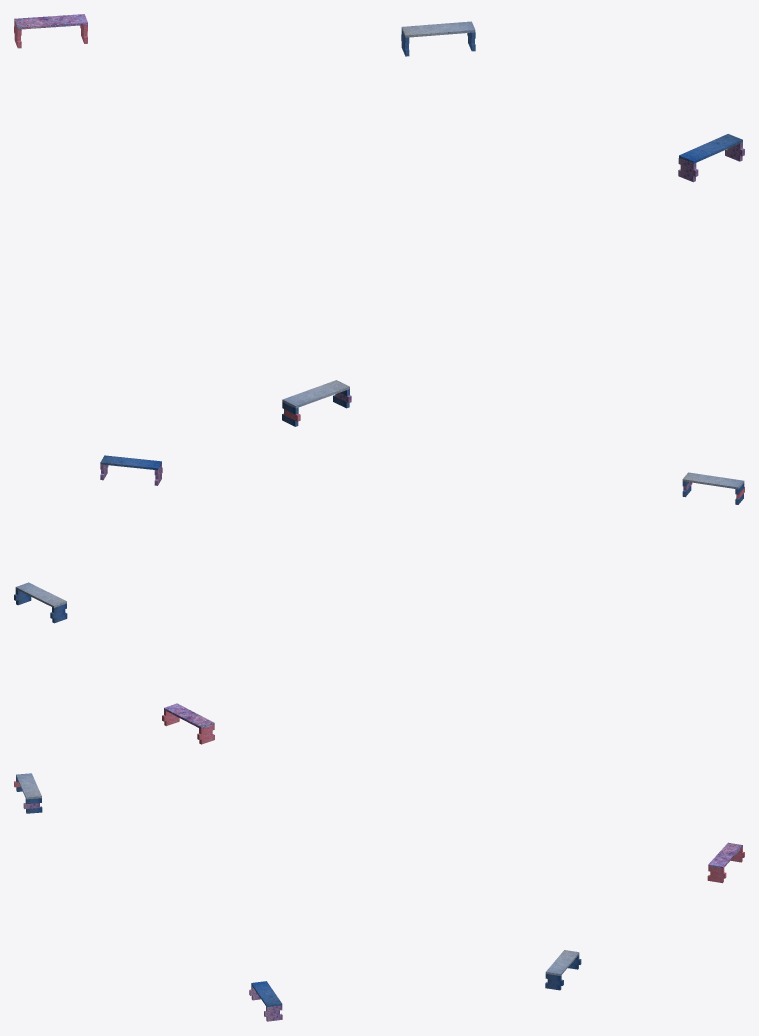
The model's file is CombinedMesh-MeshBaker (2)-mesh.fbx.
The picture shows the model from 3 angles, top to bottom: view 1: azimuth 30°, elevation 25°; view 2: azimuth 150°, elevation 25°; view 3: azimuth 270°, elevation 25°; orthographic projection. The views are drawn at different scales.
Parts seen in each view (by area): view 1: MeshBaker__2__mesh_mesh; view 2: MeshBaker__2__mesh_mesh; view 3: MeshBaker__2__mesh_mesh.
Boxes of the visible parts, x1,y1,x2,y2 form: MeshBaker__2__mesh_mesh: (14,14,744,426); MeshBaker__2__mesh_mesh: (14,455,744,744); MeshBaker__2__mesh_mesh: (14,773,744,1021).
Size of the model in its own units: 1570 by 51.26 by 2086.
4 materials, 4 textured.
